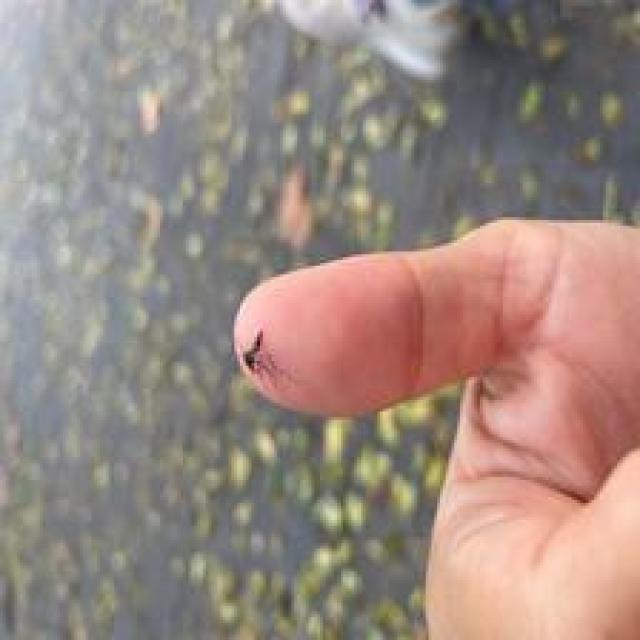Aedes albopictus: (271, 0, 466, 83)
